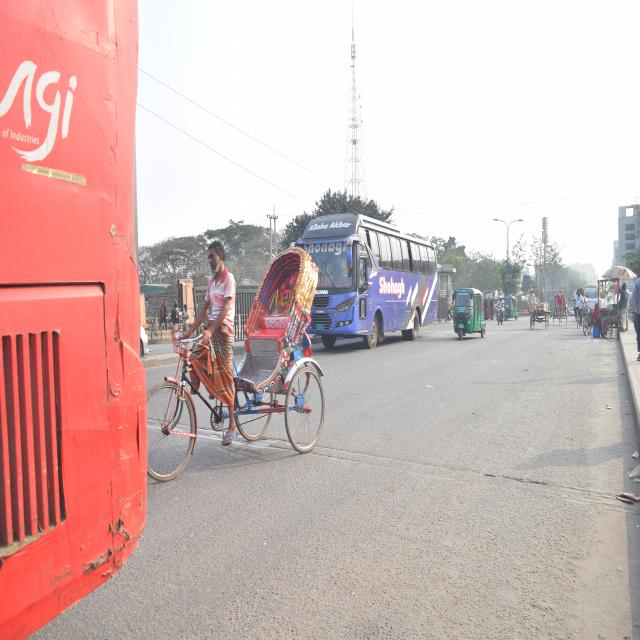bus: (0, 0, 156, 640), (300, 202, 439, 348), (584, 282, 598, 310)
motorbike: (490, 296, 509, 328)
